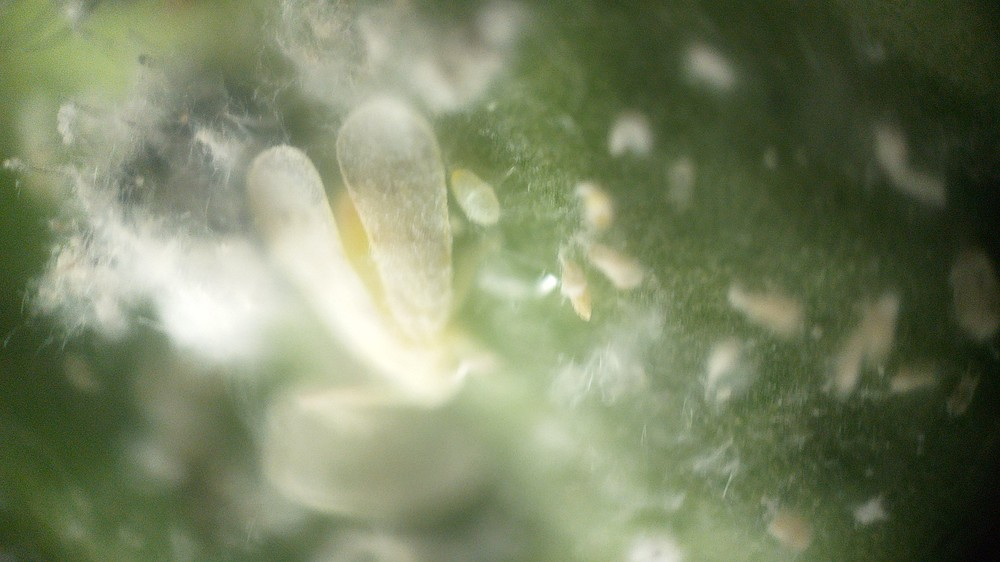Mosca Blanca: (226, 98, 553, 448)
